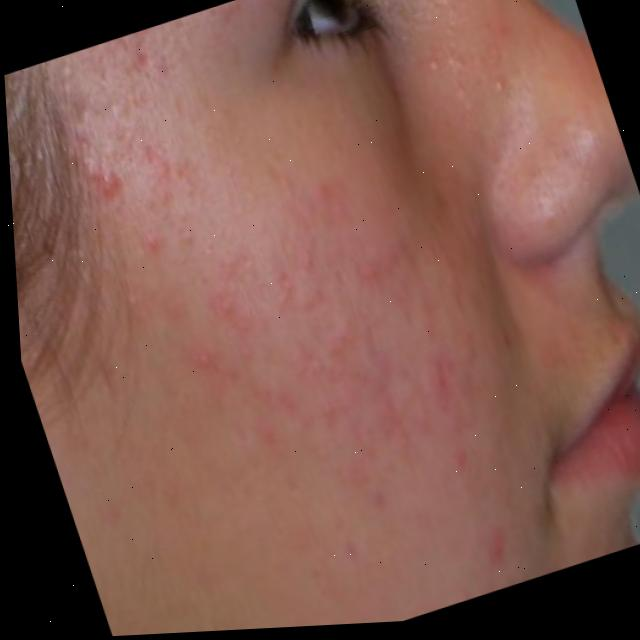Acne: (51, 19, 555, 626)
